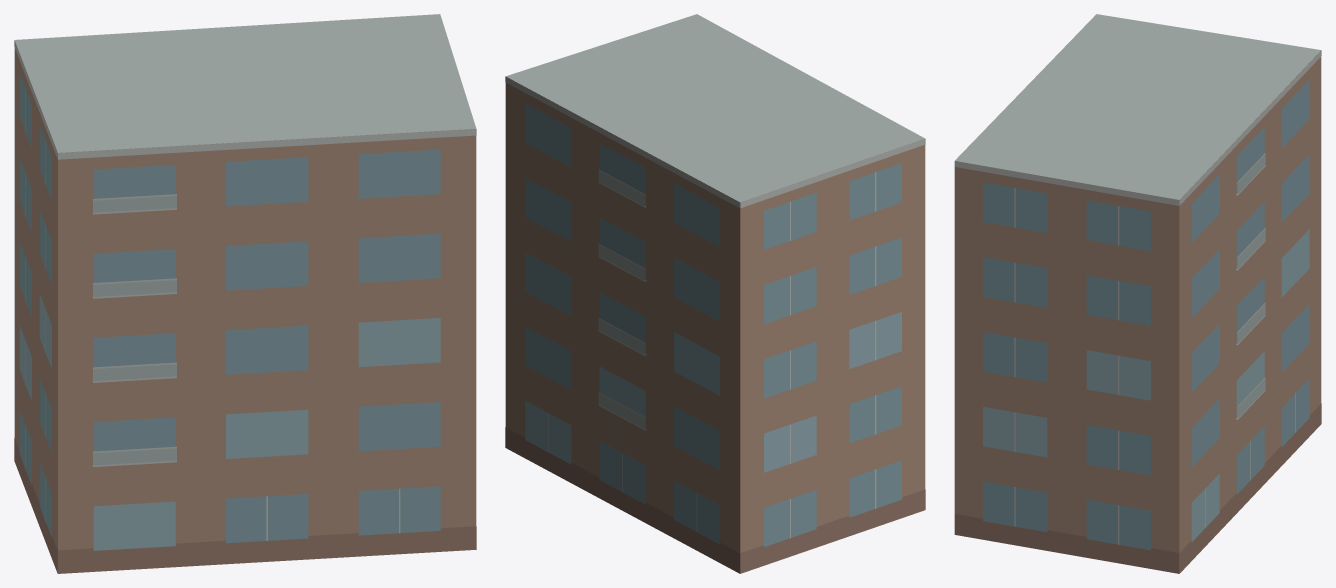
File: survey-upis-32997792.glb
3 views of the same model, side by side, from view 1: azimuth 30°, elevation 25°; view 2: azimuth 150°, elevation 25°; view 3: azimuth 270°, elevation 25° (orthographic). The views are drawn at different scales.
Parts seen in each view (by area): view 1: survey-upis-32997792.tmp; view 2: survey-upis-32997792.tmp; view 3: survey-upis-32997792.tmp.
Part boxes in pixels (bbox=[...]): survey-upis-32997792.tmp: bbox=[14, 14, 476, 573]; survey-upis-32997792.tmp: bbox=[505, 14, 925, 573]; survey-upis-32997792.tmp: bbox=[954, 14, 1321, 573].
Size of the model in its own units: 16.23 by 15.2 by 13.53.
